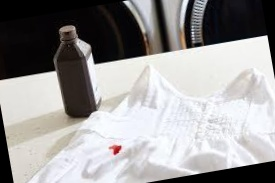blood: (106, 141, 124, 157)
